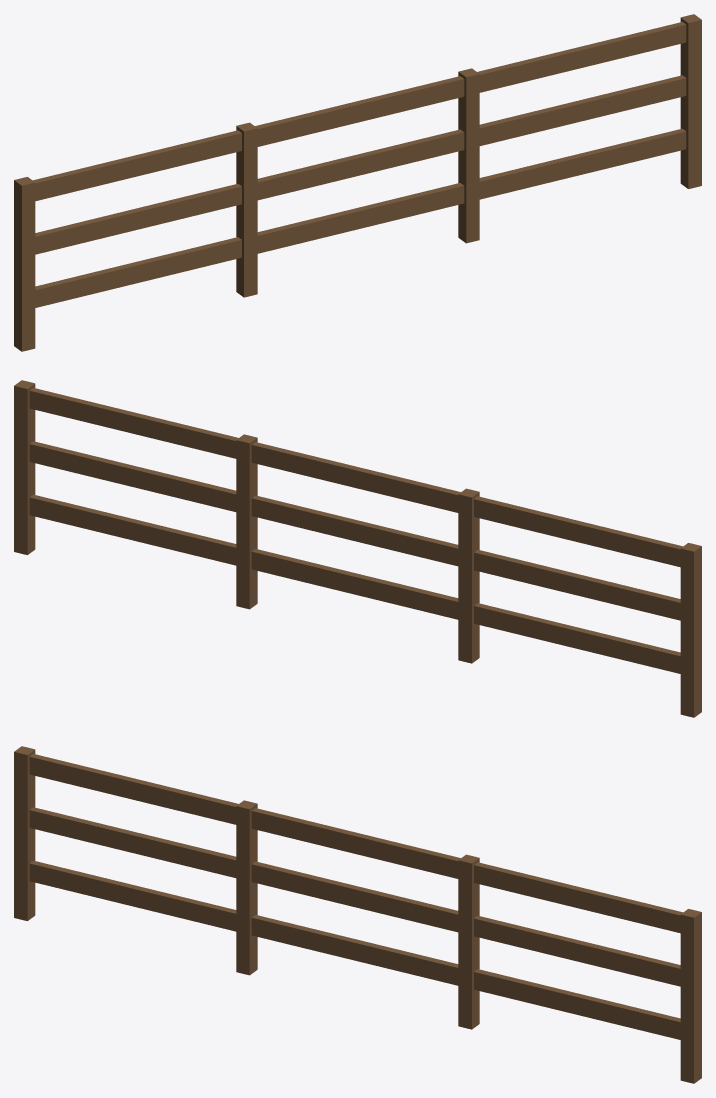
File: stall rail.glb
3 renders of one model, top to bottom at view 1: azimuth 30°, elevation 25°; view 2: azimuth 150°, elevation 25°; view 3: azimuth 330°, elevation 25°, orthographic.
Visible parts, largest first — view 1: stall rail; view 2: stall rail; view 3: stall rail.
Part boxes in pixels (bbox=[...]): stall rail: bbox=[14, 14, 701, 351]; stall rail: bbox=[14, 380, 701, 717]; stall rail: bbox=[14, 746, 701, 1083].
Size of the model in its own units: 6 by 1.4 by 0.12.
